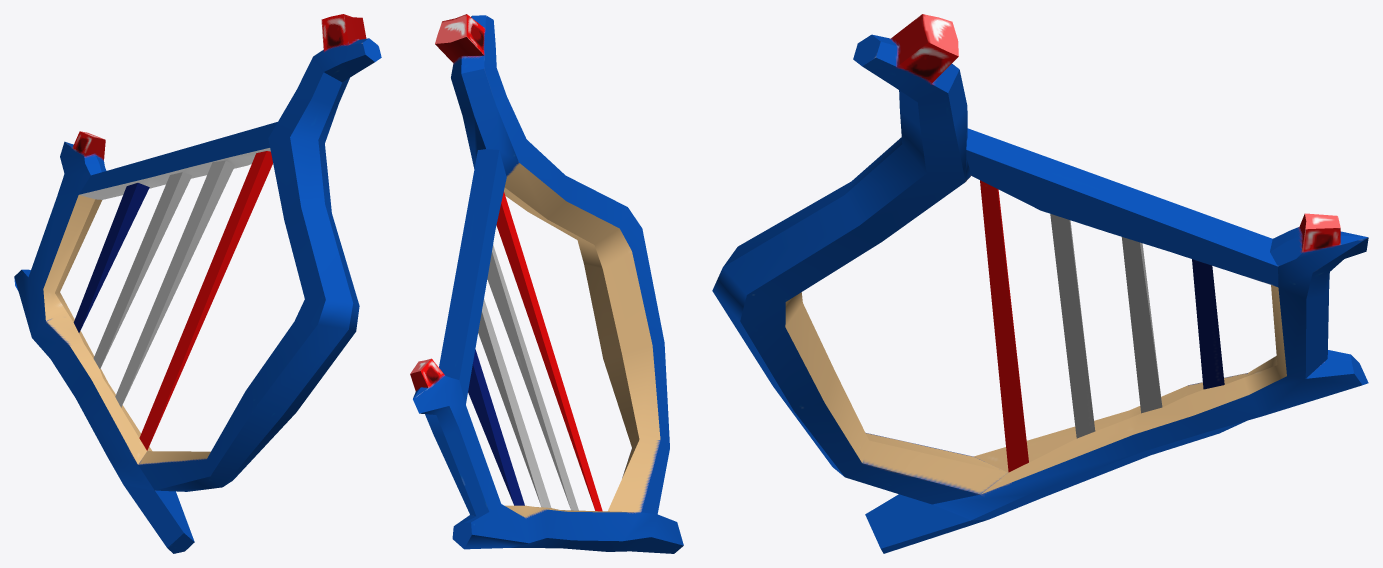
The model's file is Arpa2_000009.obj.
3 renders of one model, left to right at view 1: azimuth 30°, elevation 25°; view 2: azimuth 150°, elevation 25°; view 3: azimuth 270°, elevation 25°, orthographic. The views are drawn at different scales.
Parts seen in each view (by area): view 1: a2_Arpa_1:pCube7; view 2: a2_Arpa_1:pCube7; view 3: a2_Arpa_1:pCube7.
Part boxes in pixels (left/top/right/bottom): a2_Arpa_1:pCube7: left=14, top=14, right=381, bottom=553; a2_Arpa_1:pCube7: left=410, top=14, right=683, bottom=553; a2_Arpa_1:pCube7: left=712, top=14, right=1368, bottom=553.
Bounding box in the file's own units: 3.69 × 7.76 × 7.06.
